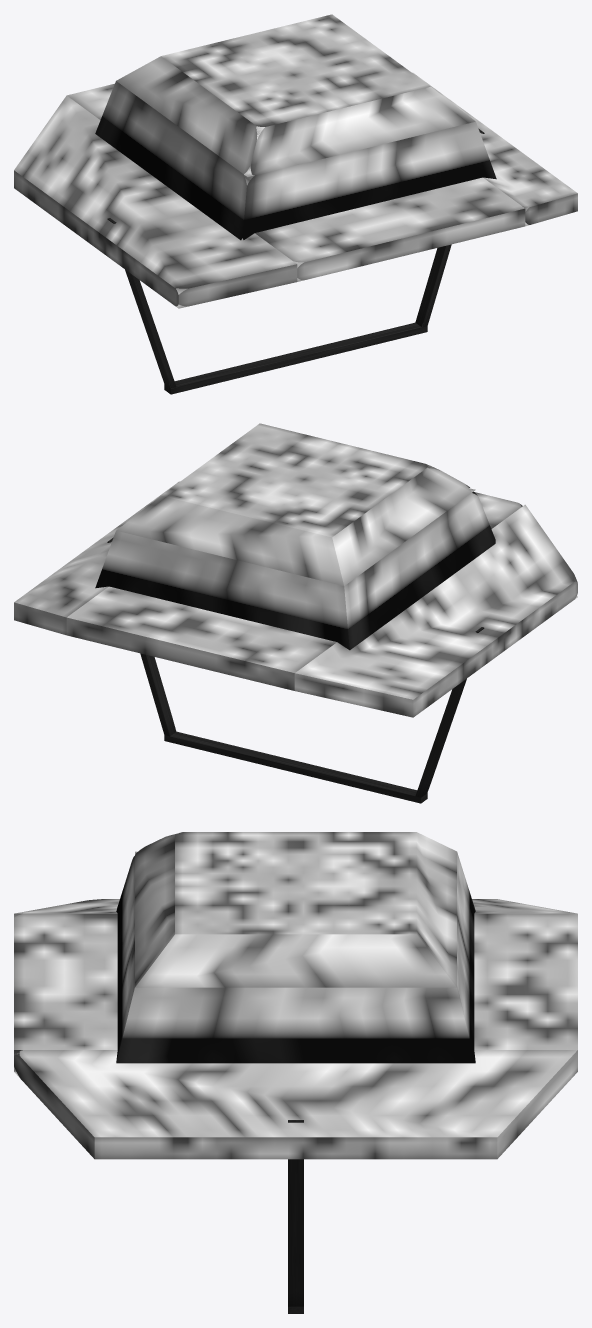
File: marinesnowhat.obj
3 renders of one model, top to bottom at view 1: azimuth 30°, elevation 25°; view 2: azimuth 150°, elevation 25°; view 3: azimuth 270°, elevation 25°, orthographic. The views are drawn at different scales.
Parts seen in each view (by area): view 1: headModel3, headModel4, headModel2, headModel0, headModel1, headModel7, headModel5, headModel6; view 2: headModel3, headModel4, headModel2, headModel0, headModel1, headModel7, headModel5, headModel6; view 3: headModel1, headModel3, headModel2, headModel0, headModel6, headModel4.
Boxes of the visible parts, box(x1,y1,x2,y2) form: headModel3: box(116, 14, 475, 176); headModel4: box(14, 95, 297, 308); headModel2: box(95, 81, 496, 240); headModel0: box(67, 83, 525, 281); headModel1: box(412, 72, 577, 226); headModel7: box(164, 322, 427, 394); headModel5: box(107, 218, 176, 388); headModel6: box(415, 128, 484, 327); headModel3: box(116, 423, 475, 585); headModel4: box(294, 504, 577, 717); headModel2: box(95, 489, 495, 650); headModel0: box(66, 492, 522, 690); headModel1: box(14, 481, 179, 635); headModel7: box(164, 731, 427, 803); headModel5: box(415, 627, 484, 797); headModel6: box(107, 537, 176, 736); headModel1: box(14, 1050, 577, 1159); headModel3: box(135, 832, 456, 987); headModel2: box(116, 852, 475, 1063); headModel0: box(14, 913, 577, 1071); headModel6: box(288, 1120, 303, 1306); headModel4: box(14, 899, 576, 917).
Bounding box in the file's own units: 14 × 9.7 × 14.
